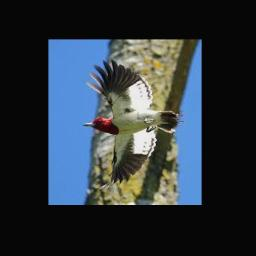Woodpecker: (83, 60, 183, 189)
